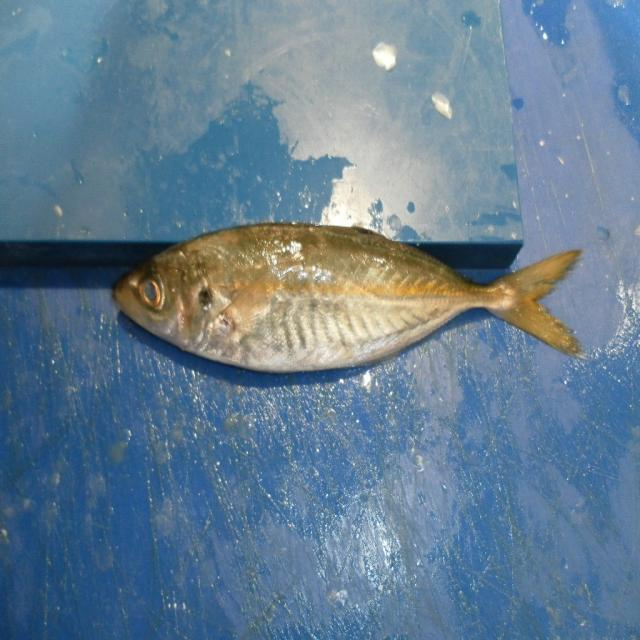Hourse-Mackerel-istavrit-: (111, 222, 584, 377)
